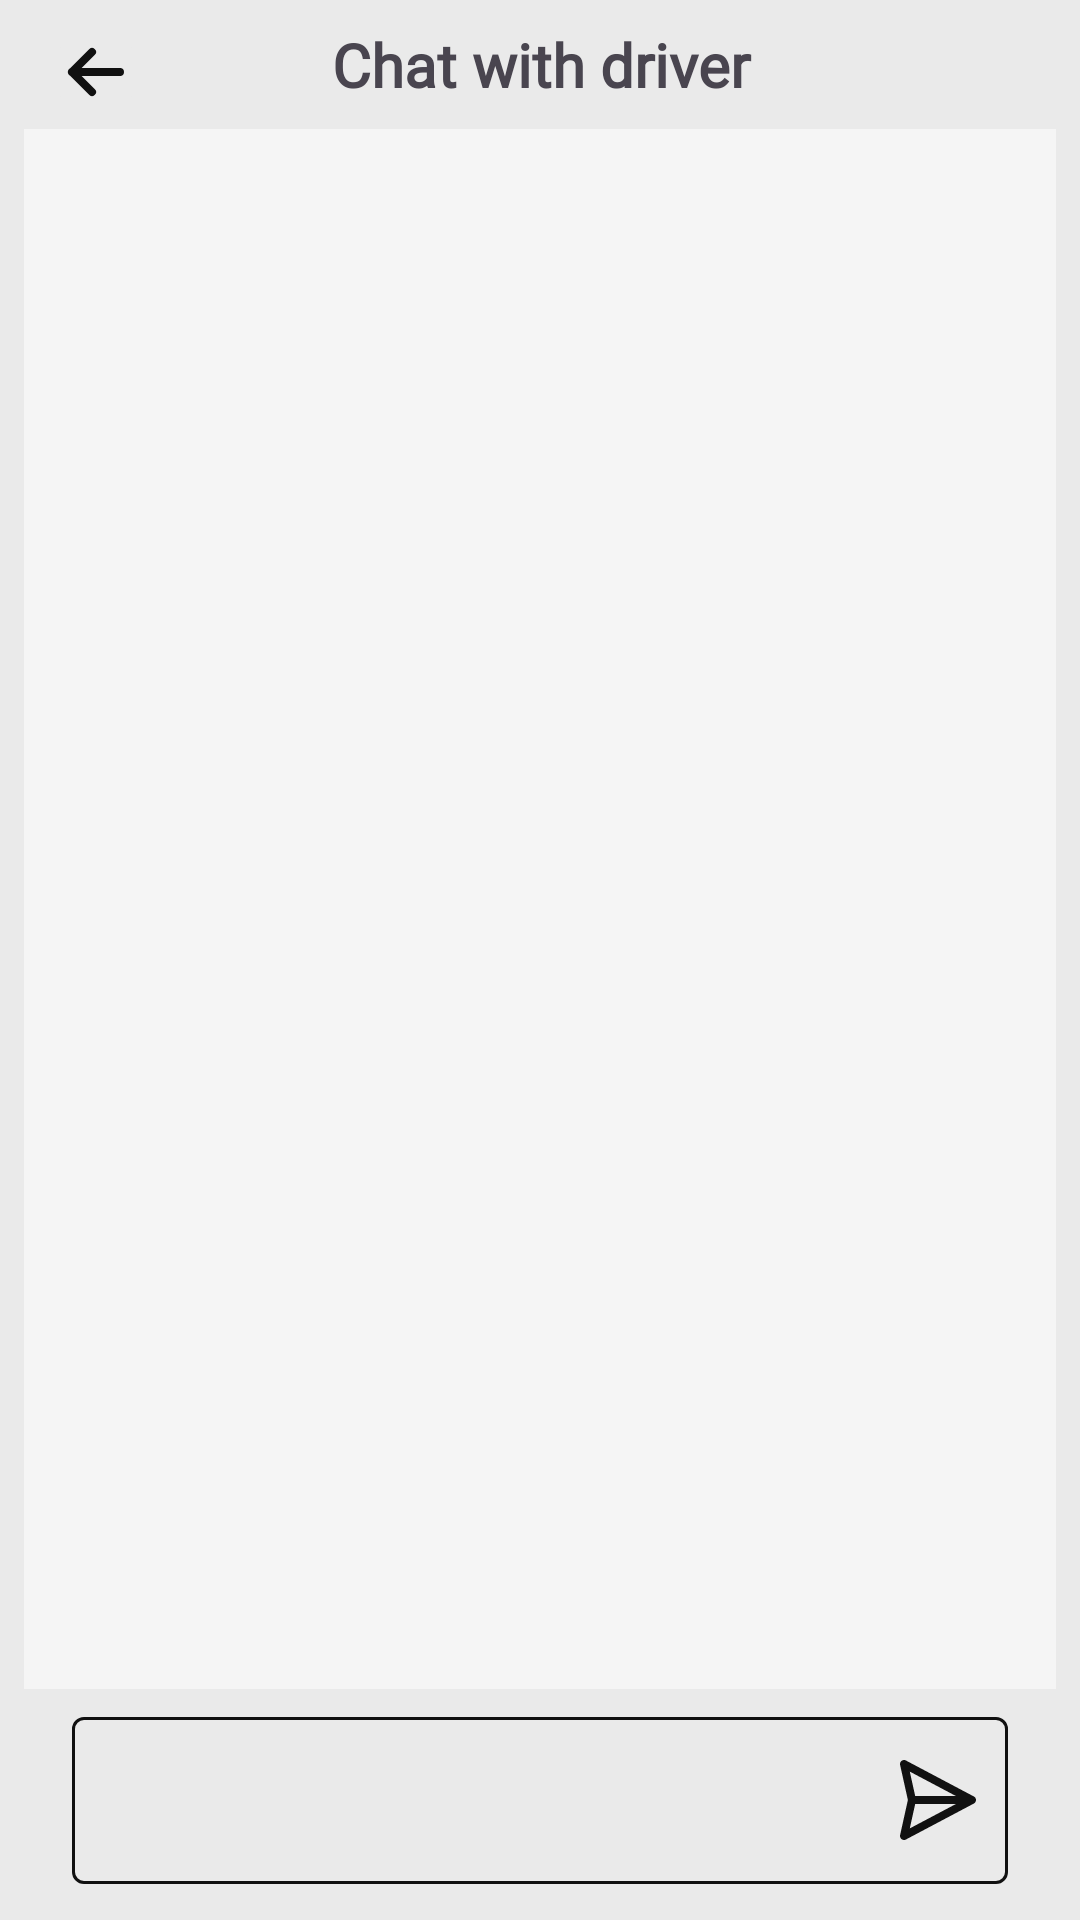

Screen size 1080px×1920px. Icon name, then its center in pixels as (x=x, y=y):
back: (x=95, y=72)
